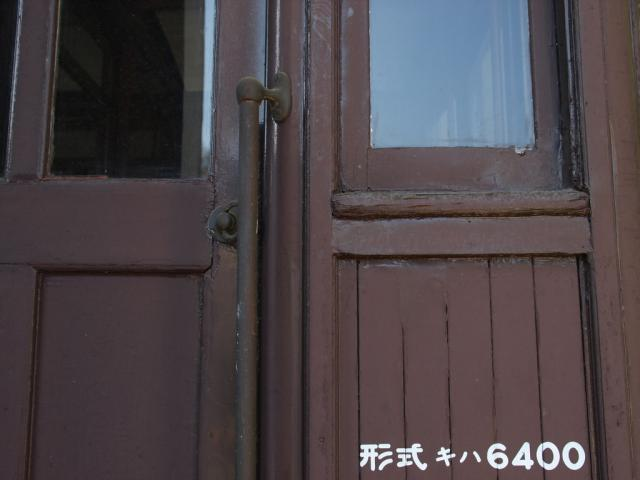Door-handle: (220, 68, 292, 480)
